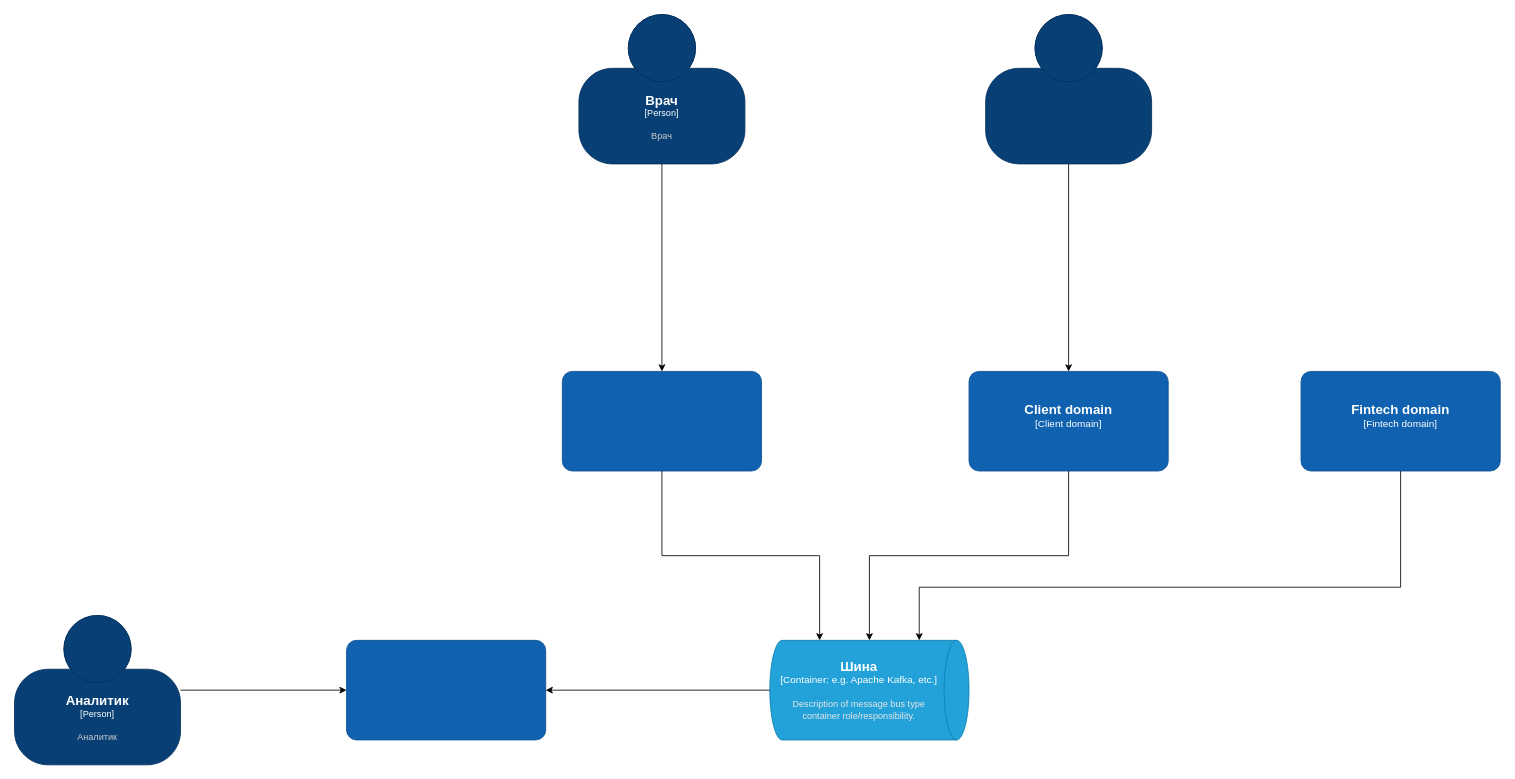
Some shapes in this 1515 by 779 pixel diagram are drawn without their labels. The centre of each missing label's shape, as x and y in pixels:
BI/AI domain [BI/AI domain]: pixel 446 690
Medical domain [Medical domain]: pixel 661 421
Клиент [Person] Клиент: pixel 1068 89
